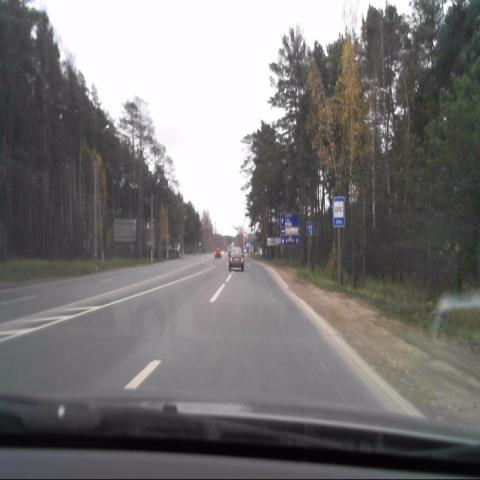7_12: (333, 196, 345, 226)
